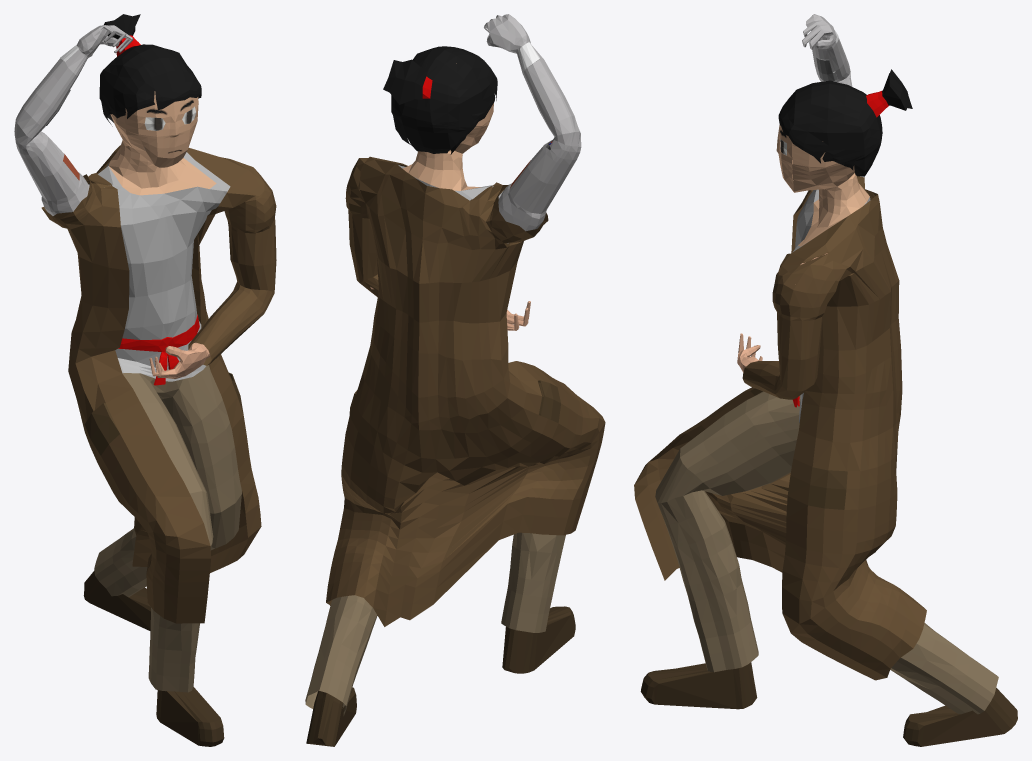
The model's file is Special_Attack_000018.obj.
3 renders of one model, left to right at view 1: azimuth 30°, elevation 25°; view 2: azimuth 150°, elevation 25°; view 3: azimuth 270°, elevation 25°, orthographic. The views are drawn at different scales.
Parts seen in each view (by area): view 1: Hair_Cube.004; view 2: Hair_Cube.004; view 3: Hair_Cube.004.
Boxes of the visible parts, x1,y1,x2,y2 form: Hair_Cube.004: [14, 14, 276, 746]; Hair_Cube.004: [305, 14, 605, 746]; Hair_Cube.004: [634, 14, 1017, 746].
Size of the model in its own units: 1.35 by 3.65 by 1.88.
